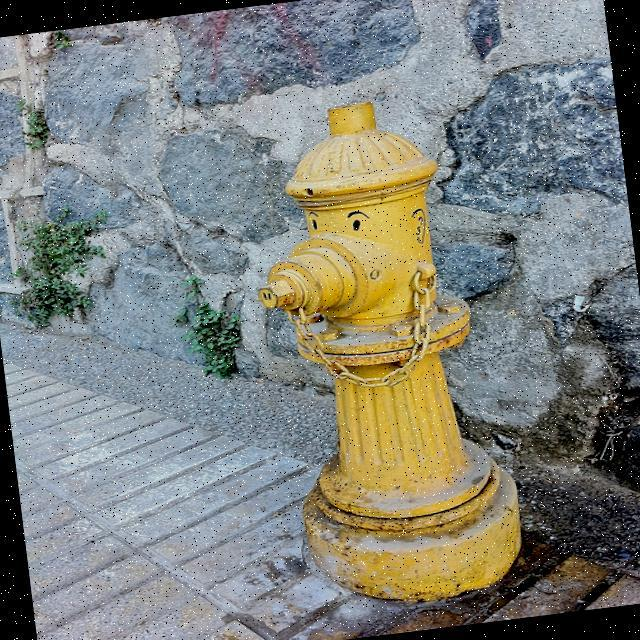fire_hydrant: (230, 80, 532, 620)
